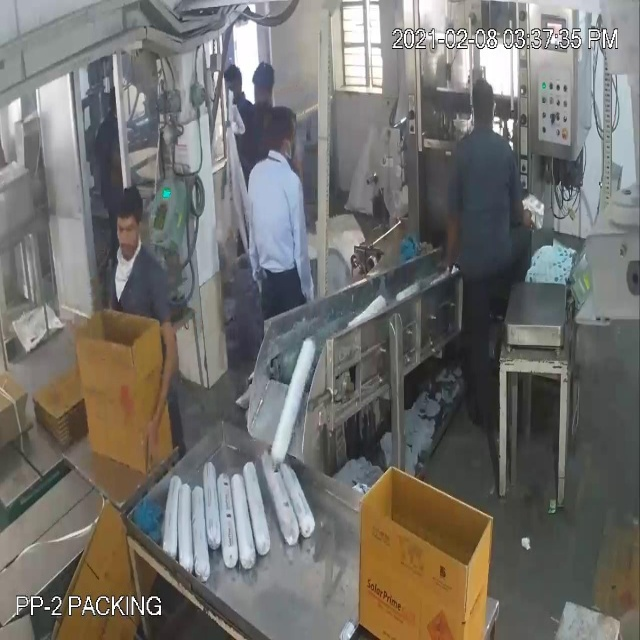Sin_guantes: (137, 301, 180, 452)
